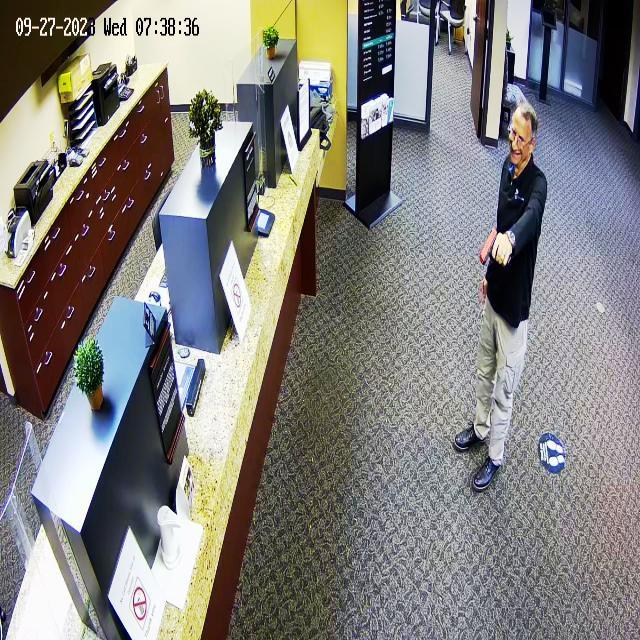Gun: (467, 214, 512, 276)
